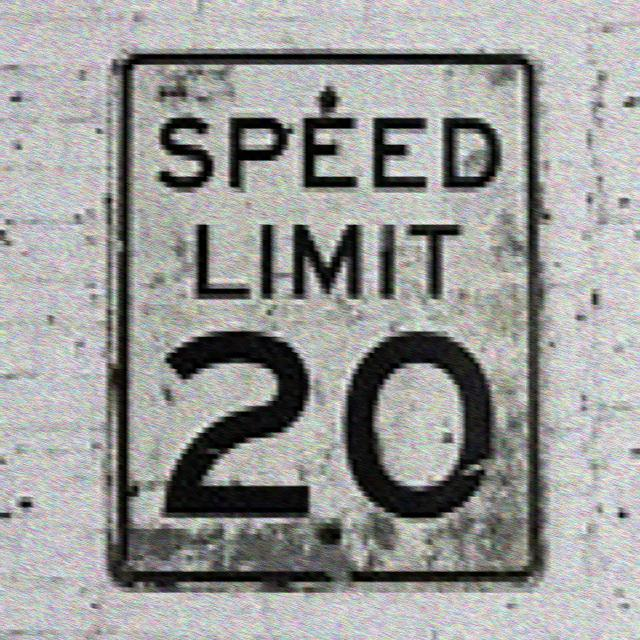speedLimit20: (106, 48, 545, 592)
